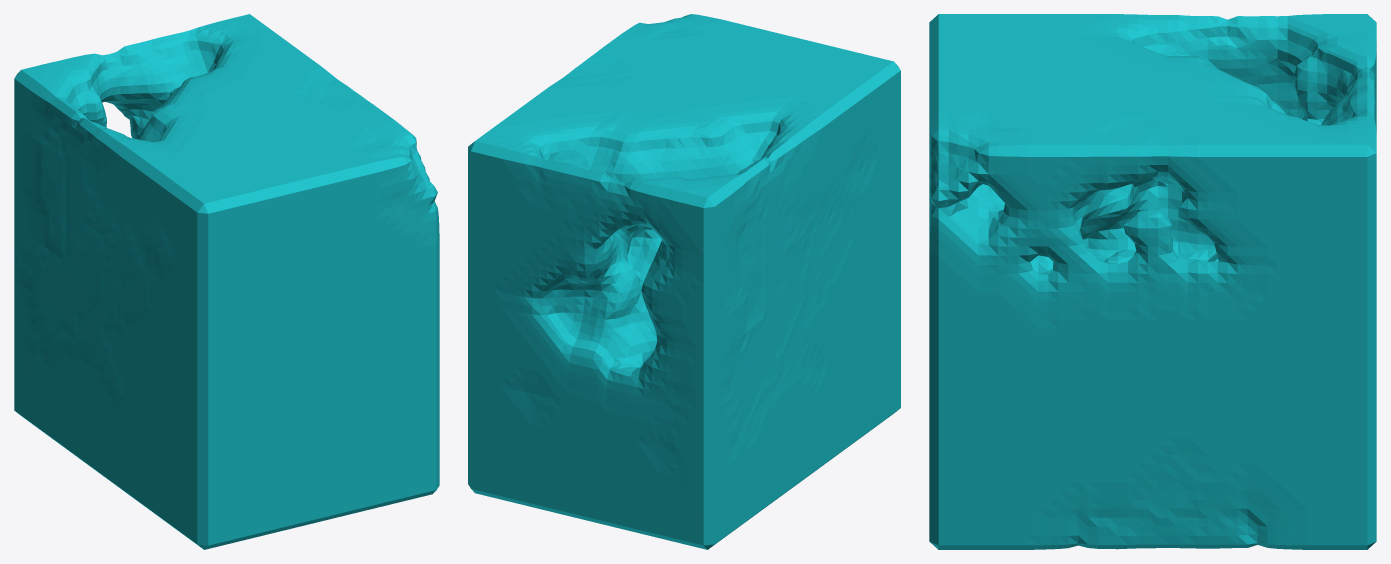
The picture shows the model from 3 angles, left to right: view 1: azimuth 30°, elevation 25°; view 2: azimuth 150°, elevation 25°; view 3: azimuth 270°, elevation 25°; orthographic projection. The views are drawn at different scales.
Parts seen in each view (by area): view 1: Liquid_Domain; view 2: Liquid_Domain; view 3: Liquid_Domain.
Boxes of the visible parts, x1,y1,x2,y2 form: Liquid_Domain: [14, 14, 439, 549]; Liquid_Domain: [468, 14, 900, 549]; Liquid_Domain: [929, 14, 1376, 549].
Size of the model in its own units: 79.09 by 108 by 108.
